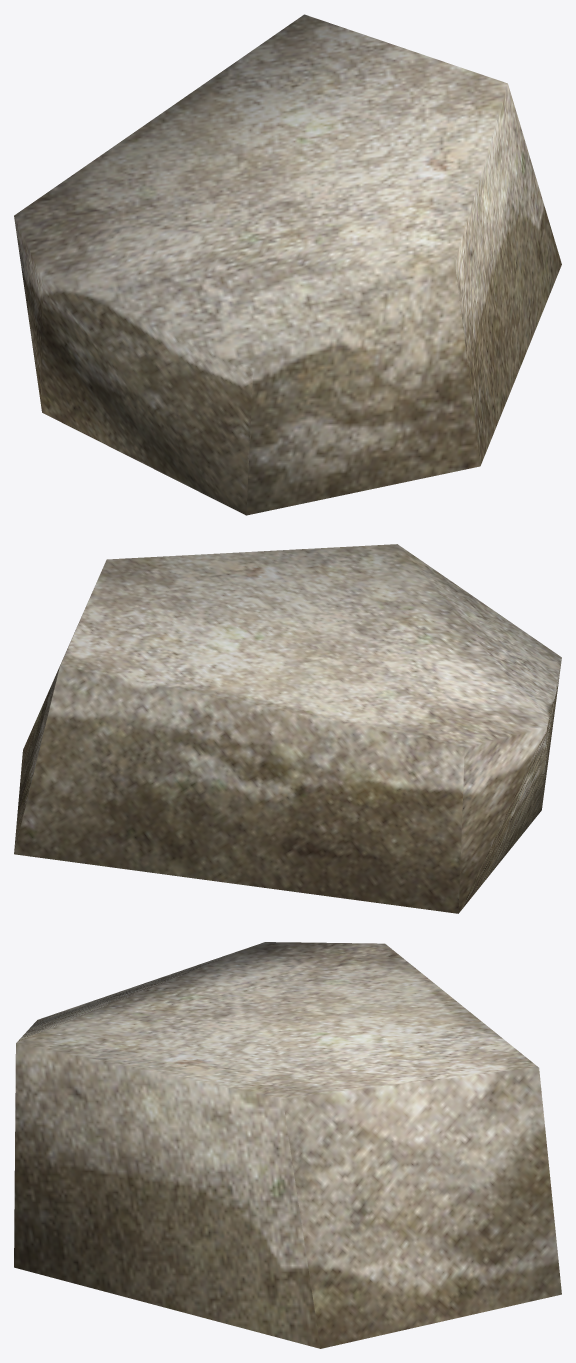
Rendered from Small_Stone3.fbx.
The picture shows the model from 3 angles, top to bottom: view 1: azimuth 30°, elevation 25°; view 2: azimuth 150°, elevation 25°; view 3: azimuth 270°, elevation 25°; orthographic projection. The views are drawn at different scales.
Visible parts, largest first — view 1: polySurface2; view 2: polySurface2; view 3: polySurface2.
Boxes of the visible parts, x1=… form: polySurface2: x1=14, y1=14, x2=561, y2=515; polySurface2: x1=14, y1=544, x2=561, y2=913; polySurface2: x1=14, y1=942, x2=561, y2=1348.
Size of the model in its own units: 0.1781 by 0.082 by 0.1538.
